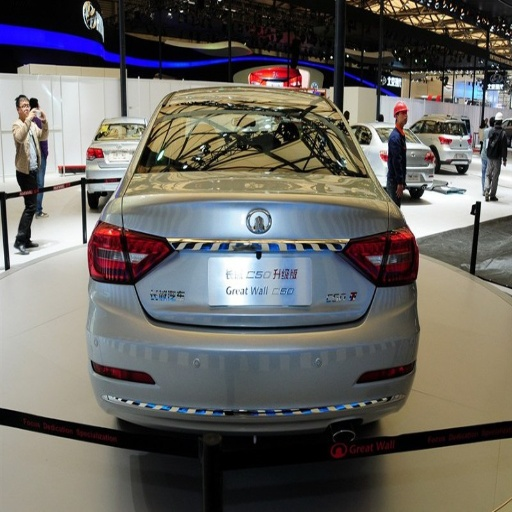back_bumper: (89, 279, 415, 505)
tailgate: (128, 172, 386, 324)
